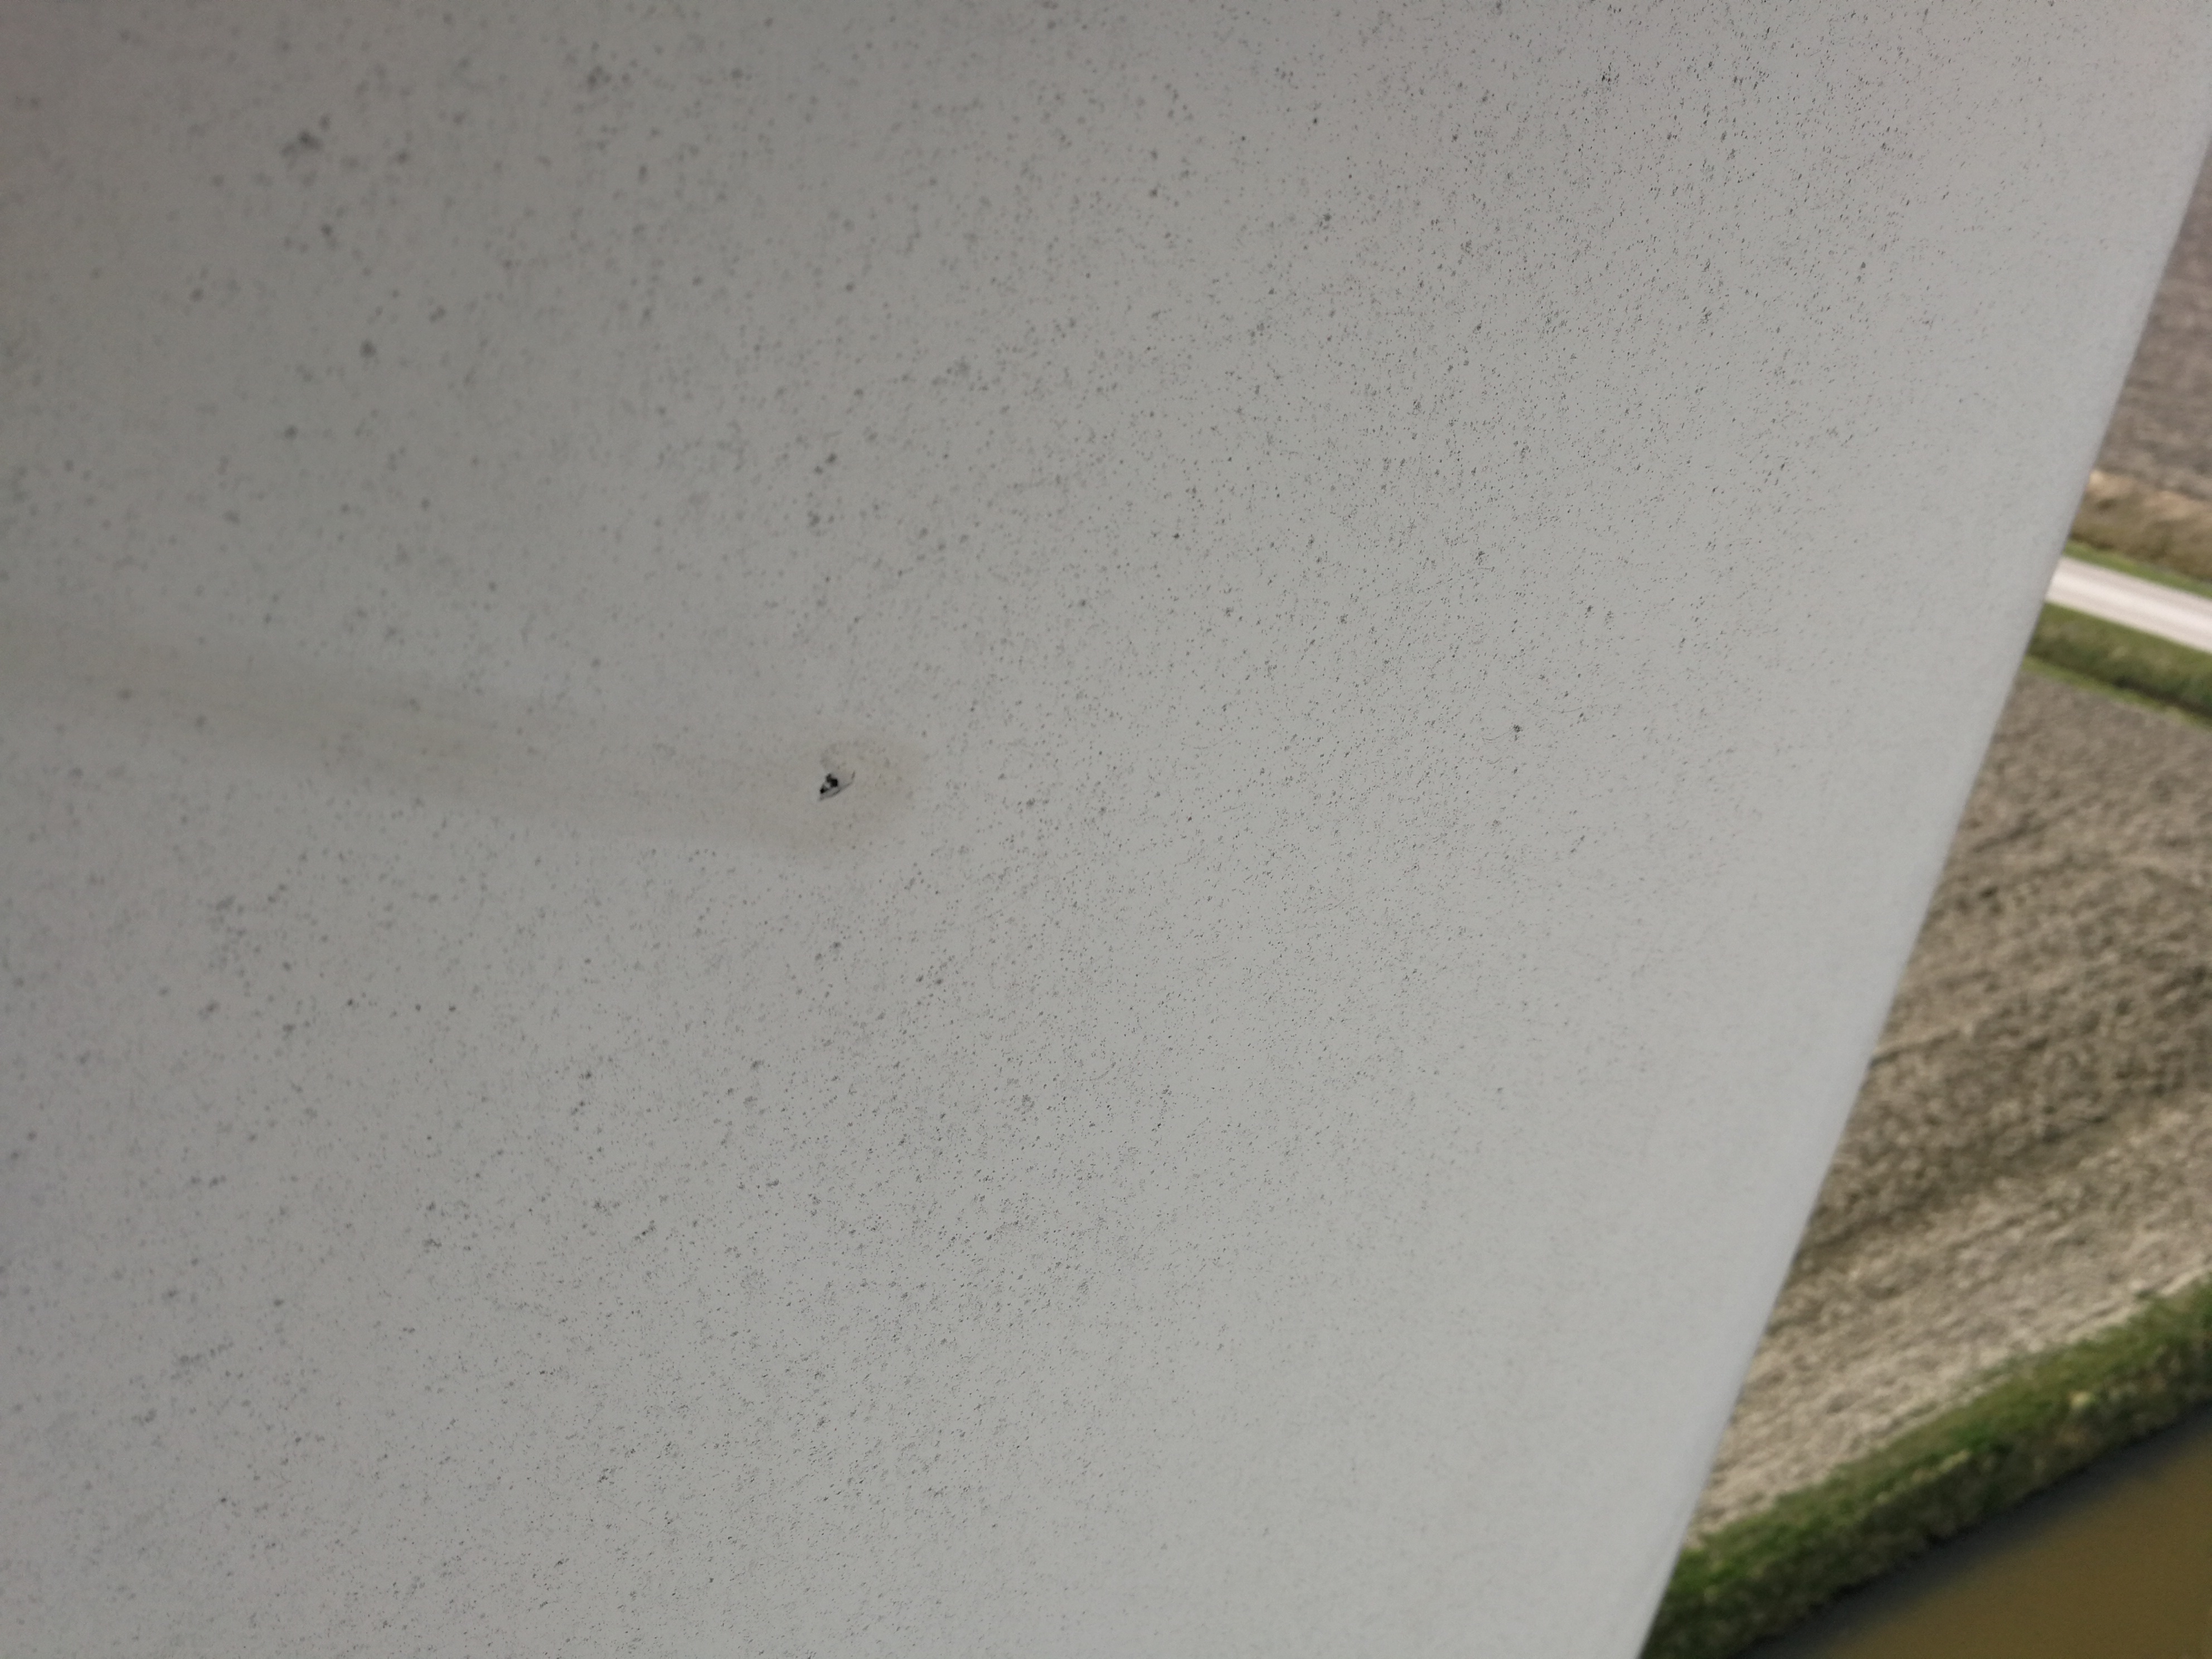SD: (799, 762, 864, 823)
